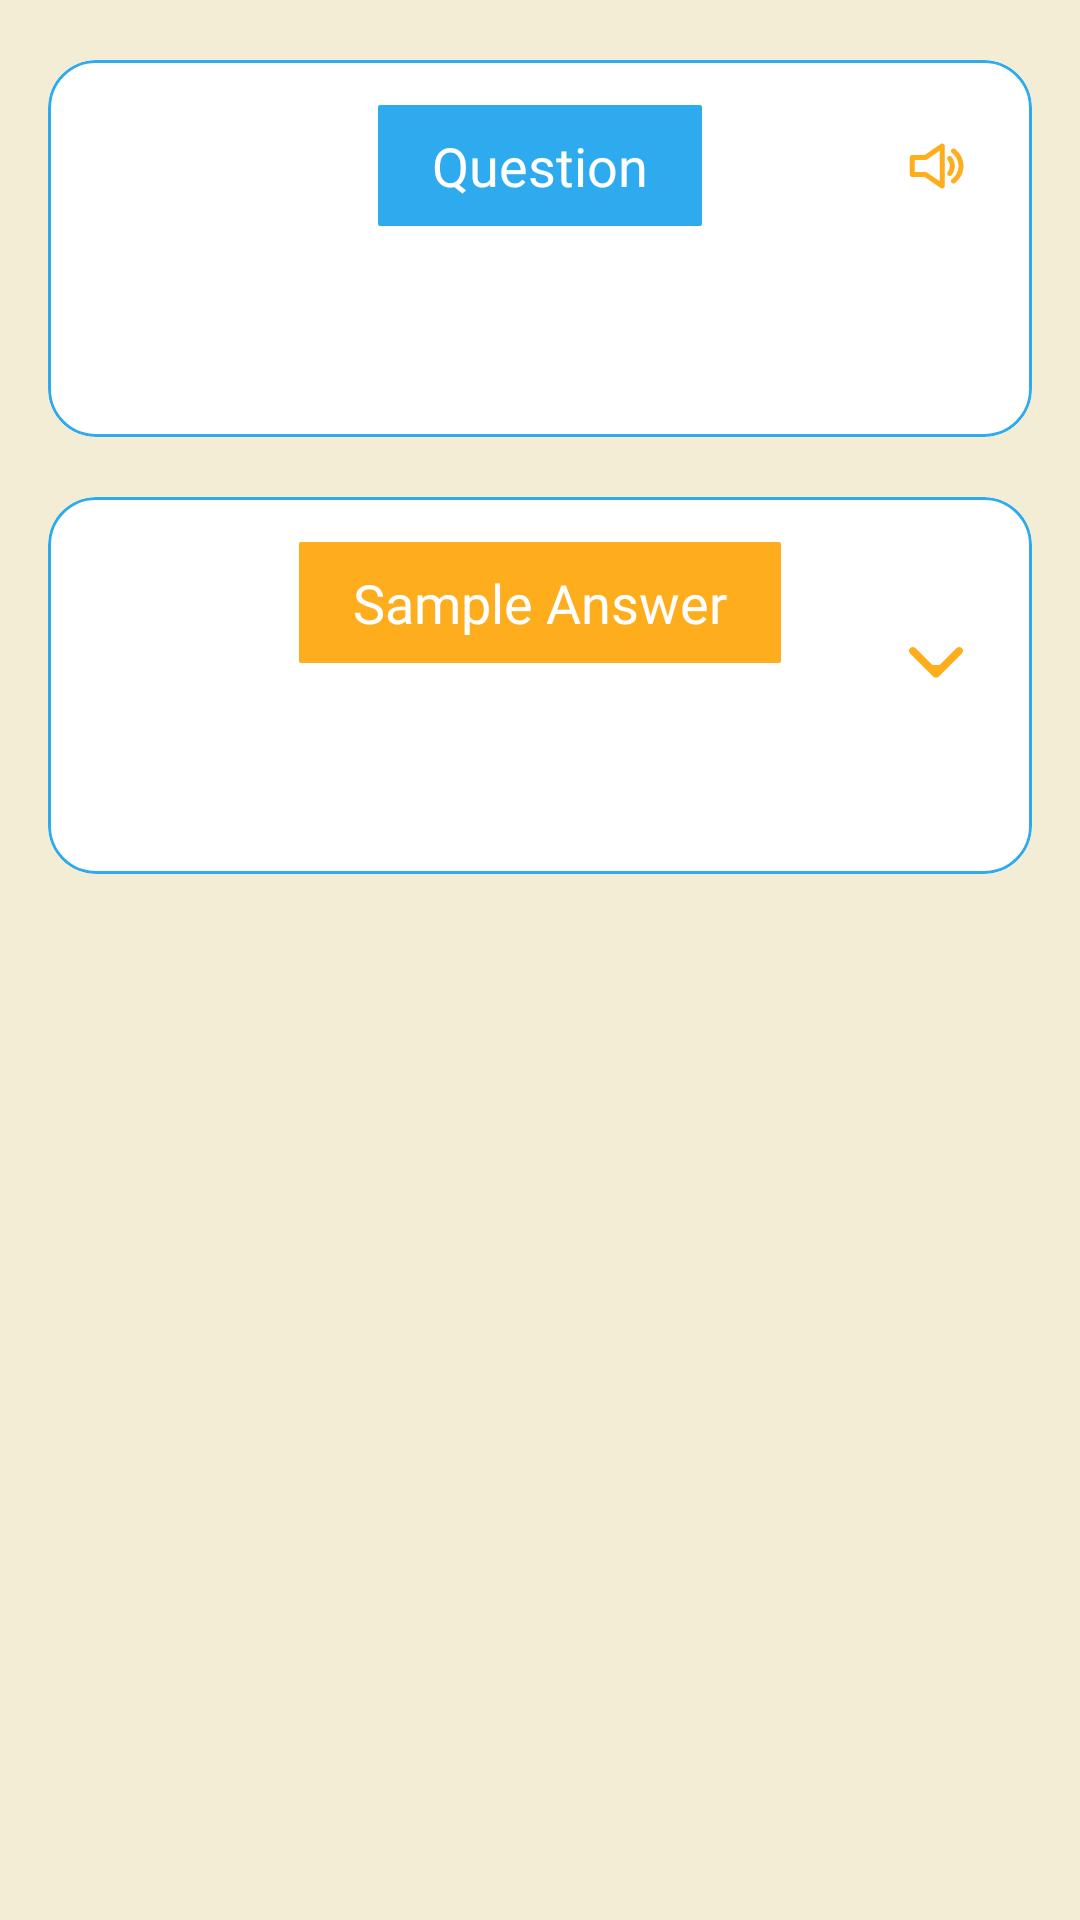

Named icons in this screenshot (1080 × 1920) and their centers, point (x, y):
Button to Speak Text: point (936, 166)
image button arrow down: point (936, 662)
